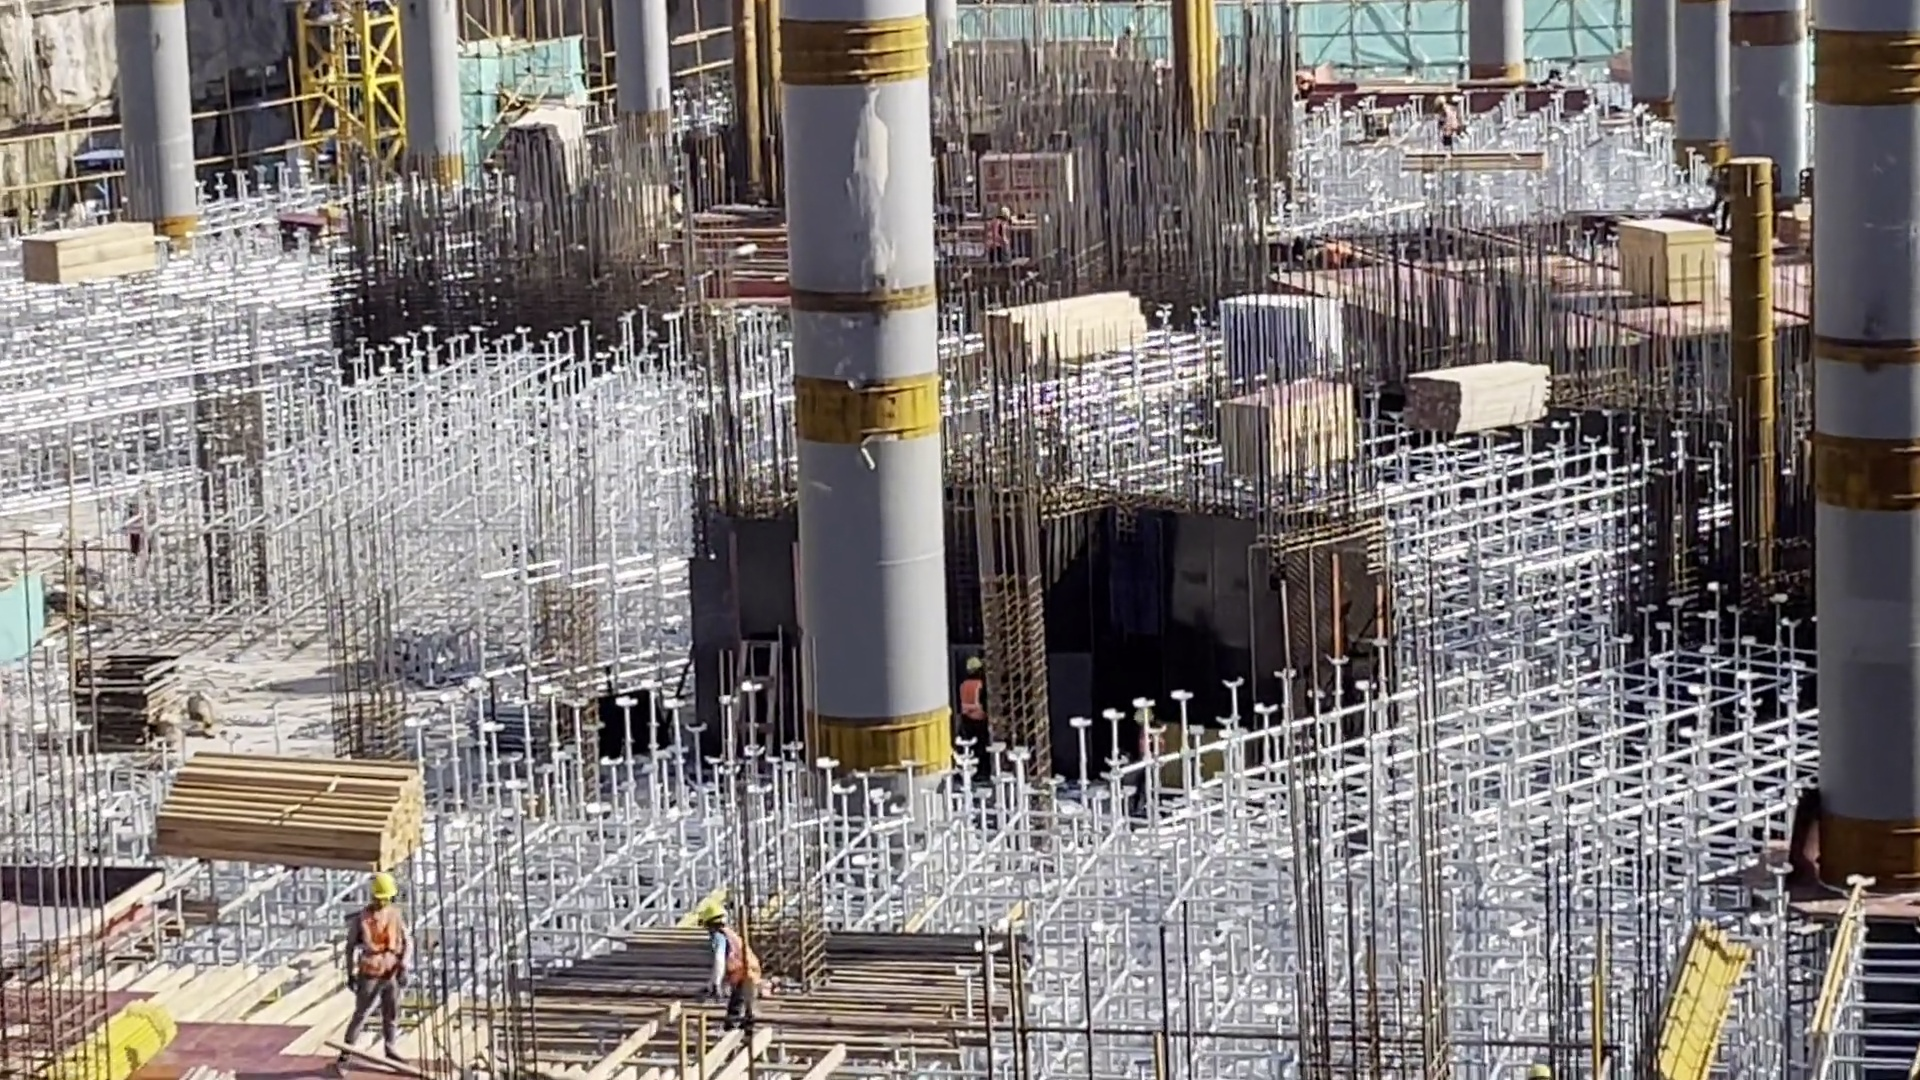board: (75, 631, 193, 759), (1611, 216, 1716, 309)
helmet: (693, 895, 732, 934), (362, 870, 397, 906), (966, 654, 985, 675), (997, 206, 1012, 220)
person: (336, 868, 423, 1073), (694, 898, 769, 1036), (959, 655, 1000, 756), (983, 204, 1019, 277), (1433, 86, 1461, 161)
vest: (351, 905, 407, 984), (708, 930, 773, 991), (955, 676, 987, 725), (987, 219, 1013, 252)
wood: (168, 749, 436, 866), (976, 296, 1169, 373), (23, 207, 165, 295), (1408, 362, 1550, 439)
